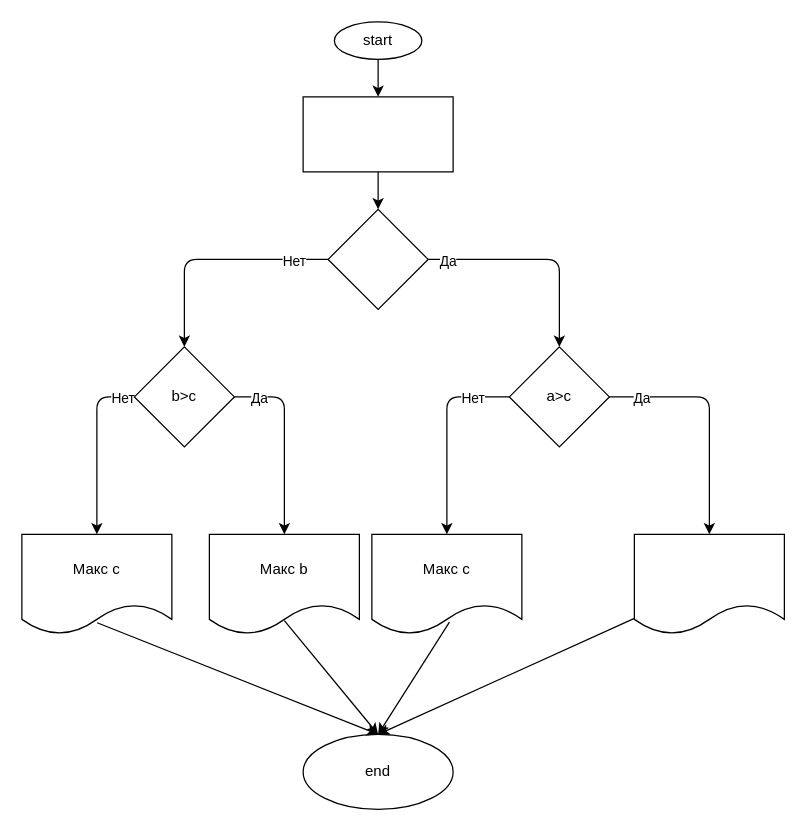
This 806x831 diagram has some shape labels left out. Here are the shapes that lost their labels. From the top down, the centre of each, then its label:
At pixel 377 134: "a = 1 b = 3 c = 2".
At pixel 377 258: "a>b".
At pixel 708 583: "Макс а".
